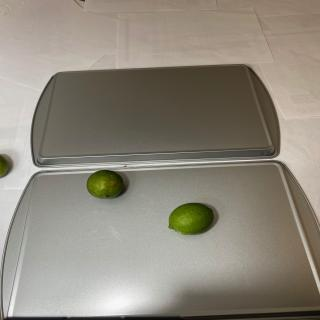Apple: (86, 170, 124, 199)
Chilli: (168, 202, 214, 235)
